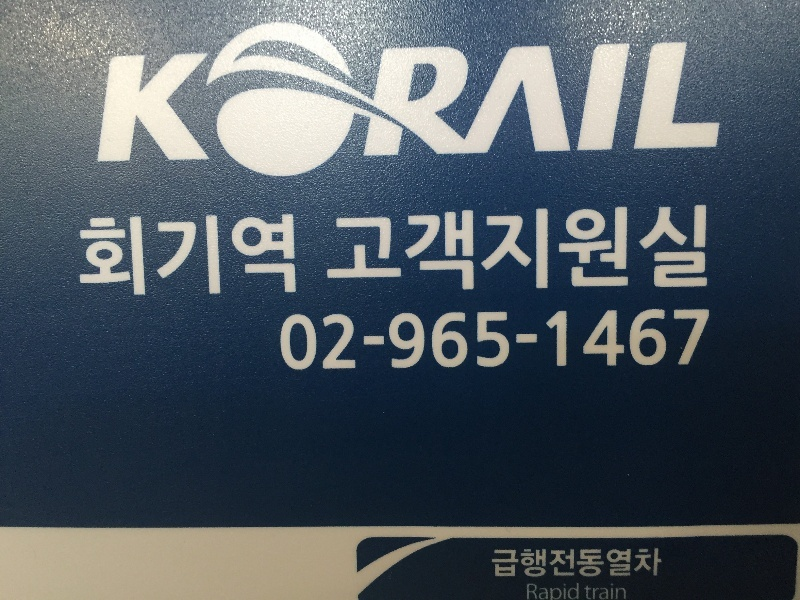text: (113, 19, 128, 184), (129, 19, 144, 184), (145, 19, 160, 184), (161, 19, 176, 184), (177, 19, 192, 184), (193, 19, 208, 184), (209, 19, 224, 184), (225, 19, 240, 184), (241, 19, 256, 184), (257, 19, 272, 184), (273, 19, 288, 184), (289, 19, 304, 184), (305, 19, 320, 184), (321, 19, 336, 184), (337, 19, 352, 184), (353, 19, 368, 184), (369, 19, 384, 184), (385, 19, 400, 184), (401, 19, 416, 184), (417, 19, 432, 184), (433, 19, 448, 184), (449, 19, 464, 184), (465, 19, 480, 184), (481, 19, 496, 184), (497, 19, 512, 184), (513, 19, 528, 184), (529, 19, 544, 184), (545, 19, 560, 184), (561, 19, 576, 184), (577, 19, 592, 184), (593, 19, 608, 184), (609, 19, 624, 184), (625, 19, 640, 184), (641, 19, 656, 184), (657, 19, 672, 184), (673, 19, 688, 184), (689, 19, 704, 184), (705, 19, 720, 184), (721, 19, 730, 184), (337, 203, 352, 296), (353, 203, 368, 296), (369, 203, 384, 296), (385, 203, 400, 296), (401, 203, 416, 296), (417, 203, 432, 296), (433, 203, 448, 296), (449, 203, 464, 296), (465, 203, 480, 296), (481, 203, 496, 296), (497, 203, 512, 296), (513, 203, 528, 296), (529, 203, 544, 296), (545, 203, 560, 296), (561, 203, 576, 296), (577, 203, 592, 296), (593, 203, 608, 296), (609, 203, 624, 296), (625, 203, 640, 296), (641, 203, 656, 296), (657, 203, 672, 296), (673, 203, 688, 296), (689, 203, 704, 296), (81, 212, 96, 299), (97, 212, 112, 299), (113, 212, 128, 299), (129, 212, 144, 299), (145, 212, 160, 299), (161, 212, 176, 299), (177, 212, 192, 299), (193, 212, 208, 299), (209, 212, 224, 299), (225, 212, 240, 299), (241, 212, 256, 299), (257, 212, 272, 299), (273, 212, 288, 299), (289, 310, 304, 374), (305, 310, 320, 374), (321, 310, 336, 374), (337, 310, 352, 374), (353, 310, 368, 374), (369, 310, 384, 374), (385, 310, 400, 374), (401, 310, 416, 374), (417, 310, 432, 374), (433, 310, 448, 374), (449, 310, 464, 374), (465, 310, 480, 374), (481, 310, 496, 374), (497, 310, 512, 374), (513, 310, 528, 374), (529, 310, 544, 374), (545, 310, 560, 374), (561, 310, 576, 374), (577, 310, 592, 374), (593, 310, 608, 374), (609, 310, 624, 374), (625, 310, 640, 374), (641, 310, 656, 374), (657, 310, 672, 374), (673, 310, 688, 374), (689, 310, 704, 374), (289, 212, 298, 299), (73, 212, 80, 299), (279, 310, 288, 374), (705, 203, 711, 296), (497, 548, 512, 578), (513, 548, 528, 578), (529, 548, 544, 578), (545, 548, 560, 578), (561, 548, 576, 578), (577, 548, 592, 578), (593, 548, 608, 578), (609, 548, 624, 578), (625, 548, 640, 578), (641, 548, 656, 578), (705, 310, 712, 374), (110, 19, 112, 184), (529, 583, 544, 600), (545, 583, 560, 600), (561, 583, 576, 600), (593, 583, 608, 600), (609, 583, 624, 600), (491, 548, 496, 578), (657, 548, 662, 578), (585, 583, 592, 600), (577, 583, 580, 600), (526, 583, 528, 600), (625, 583, 626, 600)
